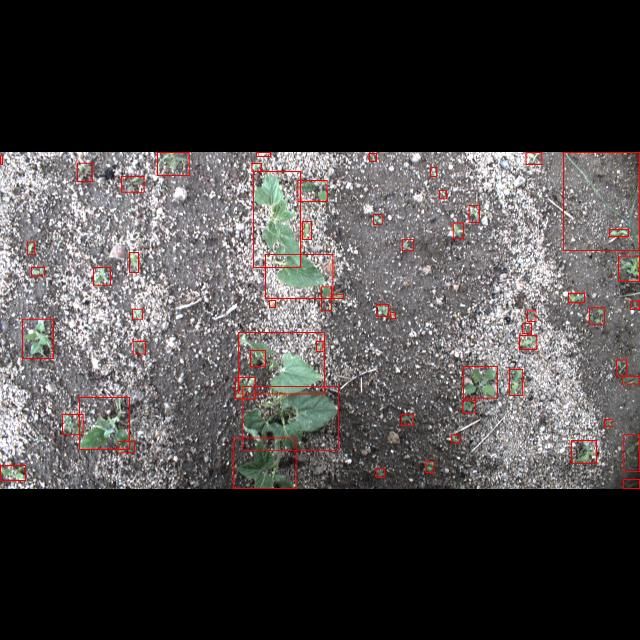crop: (243, 386, 339, 450), (238, 332, 324, 394), (253, 171, 301, 267), (234, 438, 296, 488), (266, 253, 332, 297)
weed: (564, 152, 640, 250), (79, 397, 129, 449), (22, 318, 54, 358), (463, 366, 497, 398), (157, 152, 189, 174), (624, 434, 640, 472), (298, 180, 326, 200), (572, 441, 596, 464), (618, 256, 640, 280), (62, 414, 84, 434), (236, 378, 256, 398), (509, 369, 523, 395), (122, 175, 144, 191), (1, 466, 26, 480), (94, 266, 110, 284), (520, 334, 536, 350), (250, 350, 266, 366), (78, 162, 92, 180), (321, 286, 331, 310), (590, 307, 604, 323), (526, 151, 542, 163), (118, 441, 134, 453), (132, 341, 146, 354), (302, 221, 312, 239), (469, 204, 479, 222), (452, 222, 463, 238), (462, 400, 476, 412), (569, 292, 585, 302), (130, 252, 138, 272), (617, 359, 627, 375), (623, 479, 639, 488), (377, 304, 389, 316), (610, 228, 628, 236), (622, 376, 640, 384), (402, 238, 413, 250), (401, 414, 413, 424), (526, 310, 536, 322), (32, 266, 44, 276), (132, 308, 142, 318), (522, 323, 532, 333), (452, 434, 461, 444), (373, 213, 382, 223), (376, 468, 384, 478), (426, 462, 434, 472), (630, 300, 640, 308), (252, 162, 262, 170), (28, 241, 34, 253), (317, 341, 323, 351), (604, 419, 612, 426), (369, 152, 376, 160), (257, 151, 271, 155), (439, 190, 446, 198), (431, 167, 437, 176), (332, 293, 343, 297), (390, 312, 396, 318), (270, 300, 276, 306), (0, 154, 2, 164)
